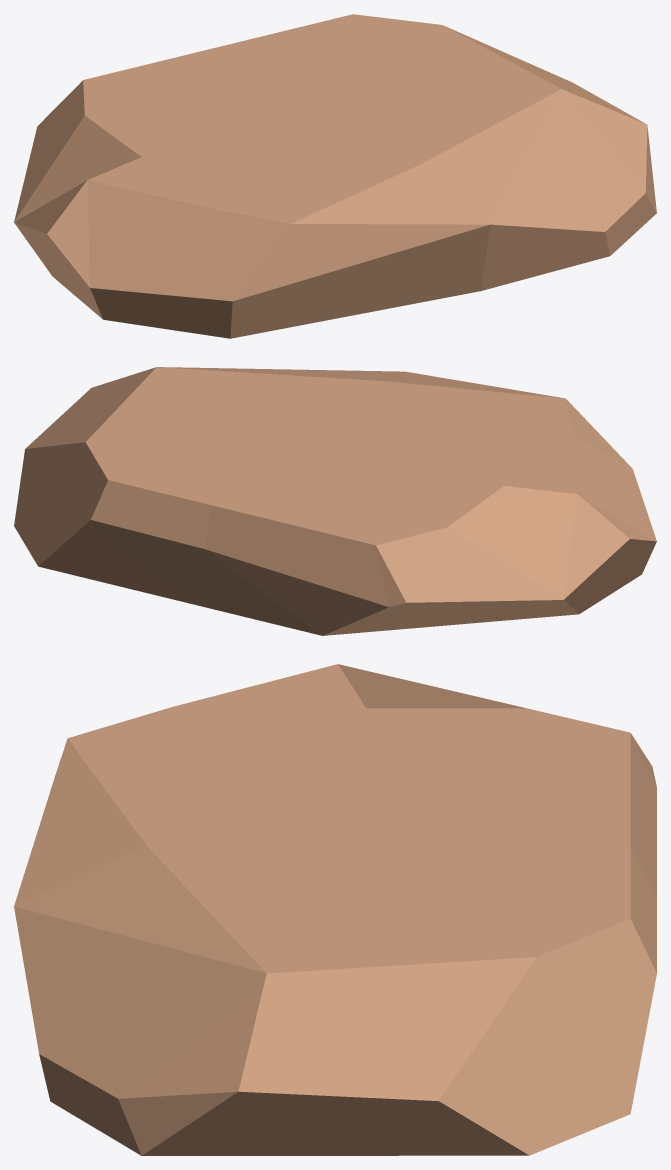
File: Rock_Flat_m_12.fbx
3 views of the same model, one above another, from view 1: azimuth 30°, elevation 25°; view 2: azimuth 150°, elevation 25°; view 3: azimuth 270°, elevation 25° (orthographic). The views are drawn at different scales.
Parts seen in each view (by area): view 1: Rock_Flat_m_12; view 2: Rock_Flat_m_12; view 3: Rock_Flat_m_12.
Boxes of the visible parts, box(x1,y1,x2,y2) form: Rock_Flat_m_12: box(14, 14, 656, 338); Rock_Flat_m_12: box(14, 367, 656, 635); Rock_Flat_m_12: box(14, 664, 656, 1155).
Bounding box in the file's own units: 163 × 28.51 × 113.
